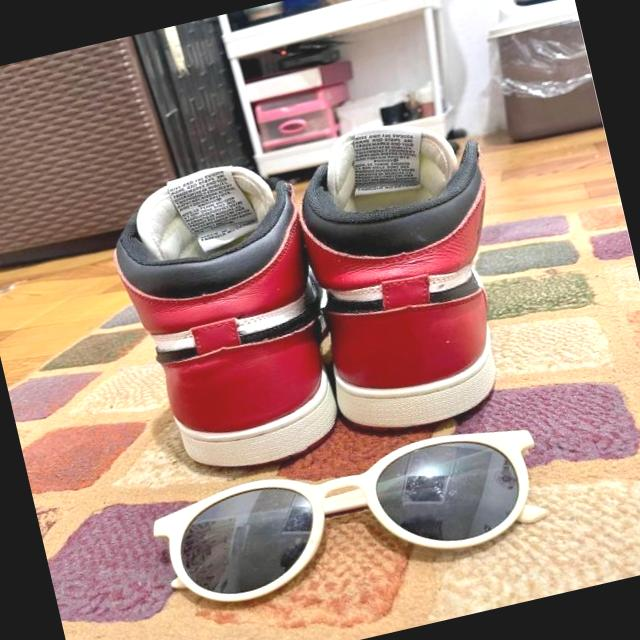nike_fake_jordan: (276, 104, 546, 445), (101, 146, 362, 492)
